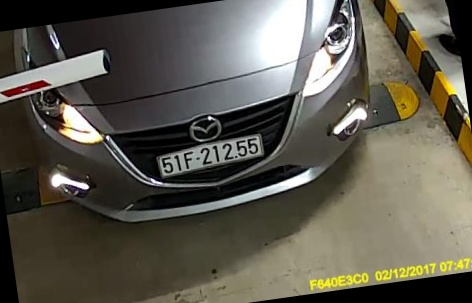plate: (154, 134, 267, 185)
